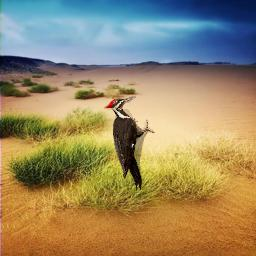Woodpecker: (104, 96, 155, 191)
